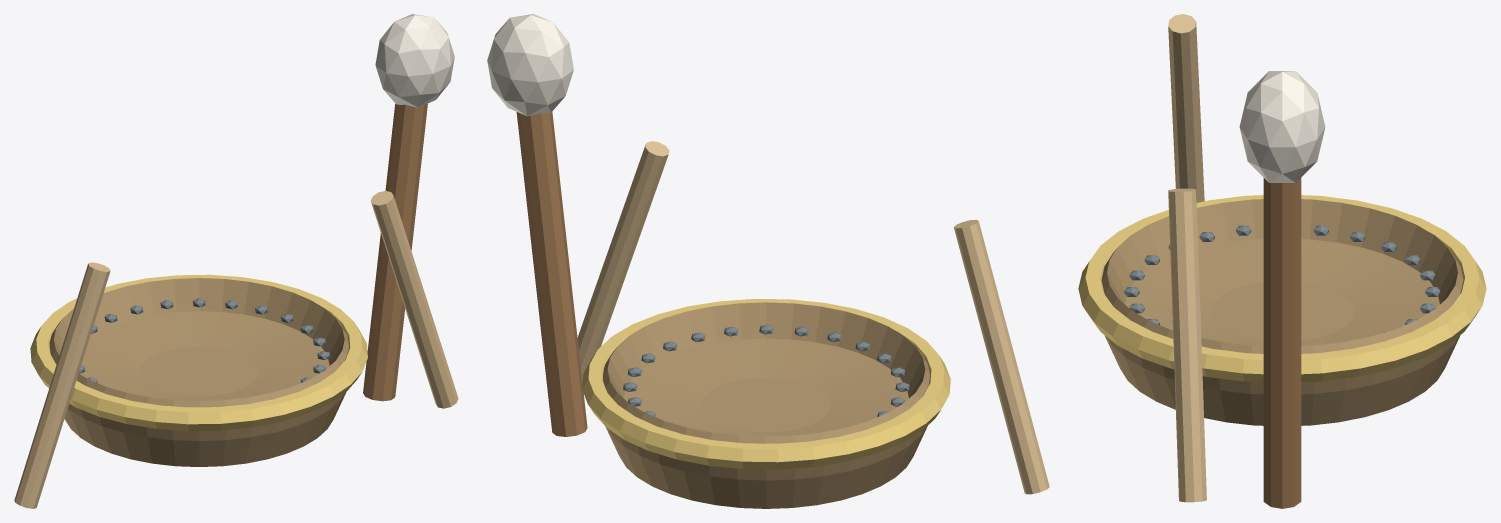
The model's file is gakki_kane_bachi.glb.
The picture shows the model from 3 angles, left to right: view 1: azimuth 30°, elevation 25°; view 2: azimuth 150°, elevation 25°; view 3: azimuth 270°, elevation 25°; orthographic projection. The views are drawn at different scales.
Visible parts, largest first — view 1: Hand cast atarigane gong, Bell forge rim, Fine metal gong clapper, Added crossed wooden kane-bachi, Gong mallet padded striking head, Added crossed wooden kane-bachi.001; view 2: Hand cast atarigane gong, Bell forge rim, Fine metal gong clapper, Added crossed wooden kane-bachi, Gong mallet padded striking head, Added crossed wooden kane-bachi.001; view 3: Hand cast atarigane gong, Bell forge rim, Fine metal gong clapper, Added crossed wooden kane-bachi.001, Gong mallet padded striking head, Added crossed wooden kane-bachi.
Part boxes in pixels (x1,y1,x2,y2): Hand cast atarigane gong: (49,278,348,466); Bell forge rim: (30,274,367,430); Fine metal gong clapper: (363,103,427,401); Added crossed wooden kane-bachi: (14,262,110,508); Gong mallet padded striking head: (375,14,454,107); Added crossed wooden kane-bachi.001: (371,191,458,408); Hand cast atarigane gong: (603,302,929,508); Bell forge rim: (582,299,950,469); Fine metal gong clapper: (516,112,587,436); Added crossed wooden kane-bachi: (953,219,1049,494); Gong mallet padded striking head: (487,14,573,116); Added crossed wooden kane-bachi.001: (577,141,669,382); Hand cast atarigane gong: (1101,199,1463,425); Bell forge rim: (1078,195,1486,382); Fine metal gong clapper: (1263,178,1301,508); Added crossed wooden kane-bachi.001: (1168,188,1206,502); Gong mallet padded striking head: (1239,71,1325,182); Added crossed wooden kane-bachi: (1168,14,1204,202).
Size of the model in its own units: 1.95 by 1.47 by 1.21.
